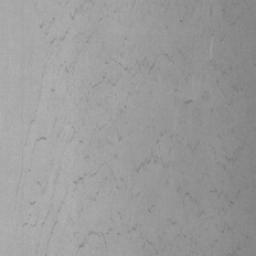Silk spot: (88, 228, 112, 248), (136, 156, 158, 173), (136, 57, 155, 74), (60, 61, 76, 75), (73, 173, 87, 185), (226, 247, 241, 256), (36, 136, 47, 141)
